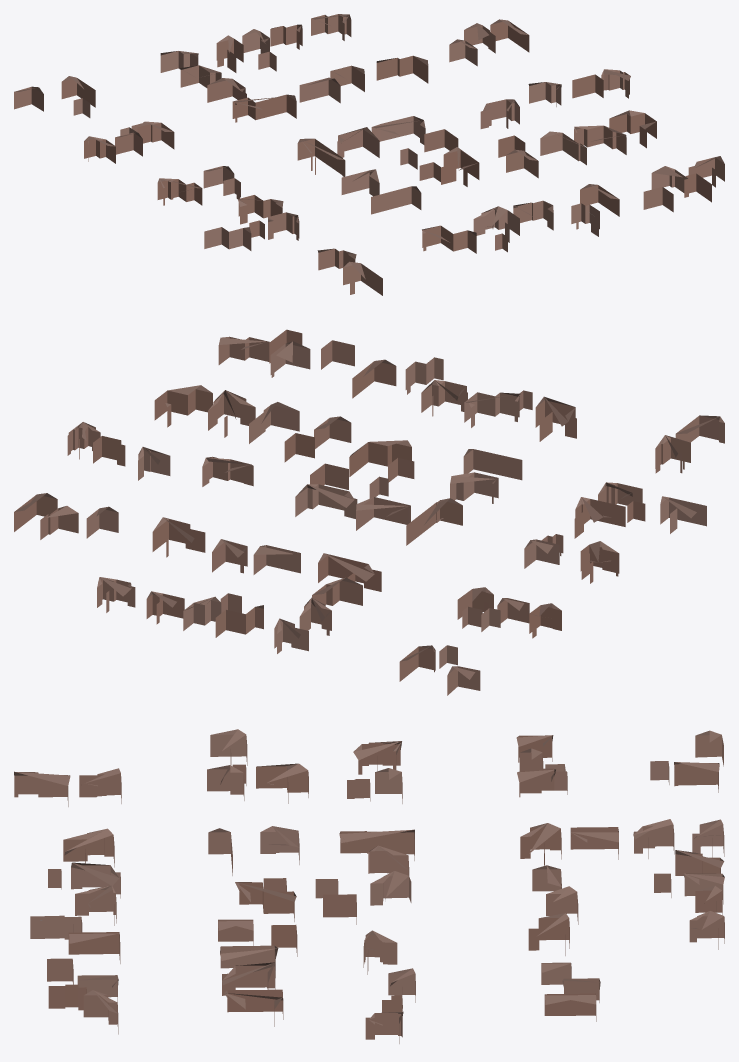
The model's file is c_1647_17829_buildings_residential.glb.
The picture shows the model from 3 angles, top to bottom: view 1: azimuth 30°, elevation 25°; view 2: azimuth 150°, elevation 25°; view 3: azimuth 270°, elevation 25°; orthographic projection. The views are drawn at different scales.
Parts seen in each view (by area): view 1: geometry_0; view 2: geometry_0; view 3: geometry_0.
Part boxes in pixels (box(x1,y1,x2,y2)): geometry_0: box(14, 14, 724, 295); geometry_0: box(14, 329, 724, 695); geometry_0: box(14, 729, 724, 1043).
Bounding box in the file's own units: 263 × 10.94 × 270.
